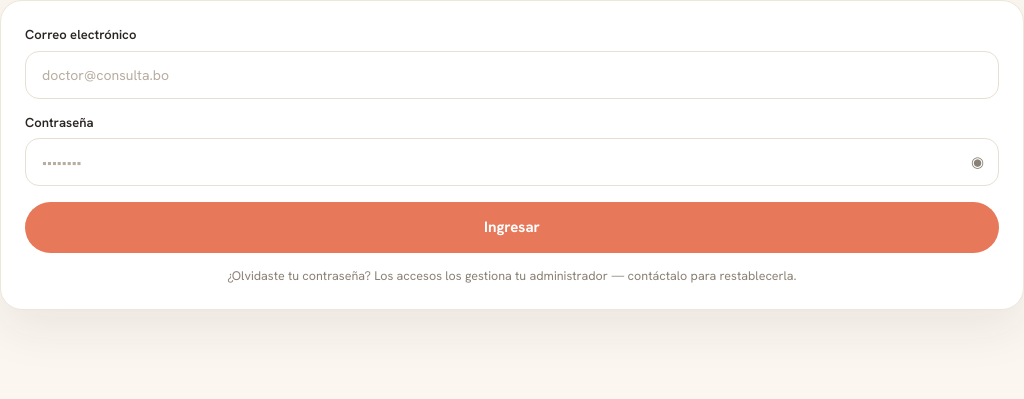
Test: LoginForm › clears a previous error on a successful retry
The width and height of the screenshot is (1024, 399).
Type "asistente@consulta.bo" into the field labelled "Correo electrónico". click: (512, 74)
box: [25, 50, 999, 98]
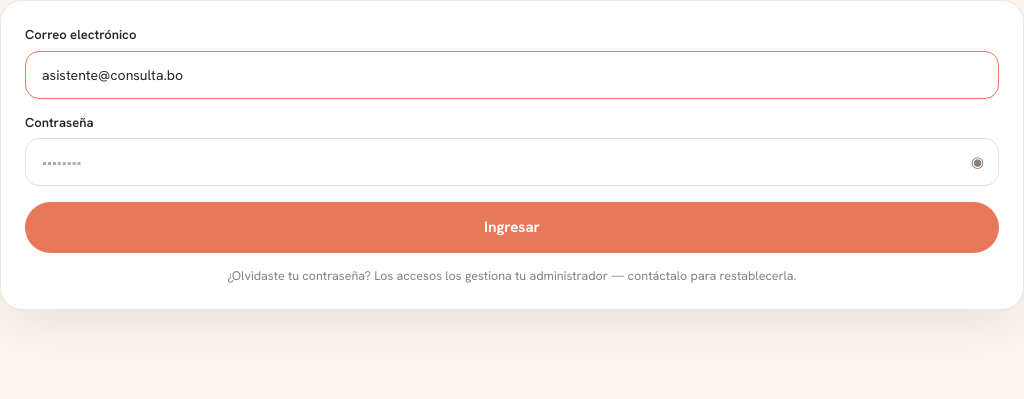
Type "wrong" into the password field labelled "Contraseña". click: (512, 162)
box: [25, 138, 999, 186]
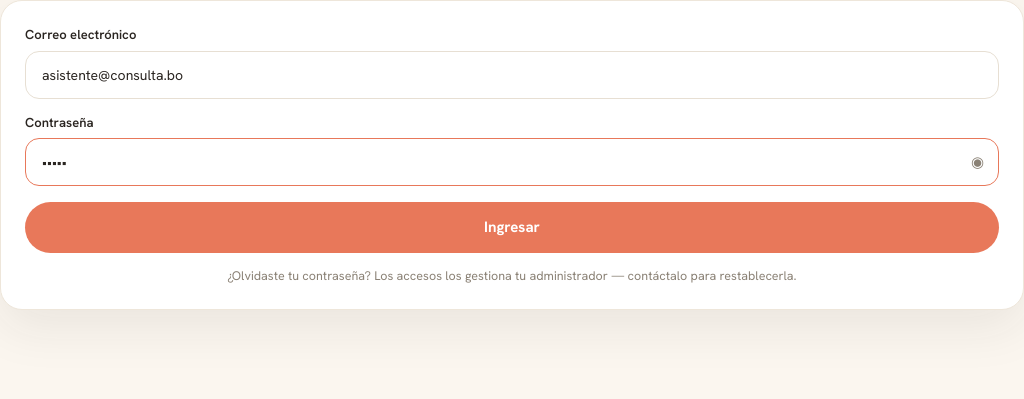
Click the button "Ingresar". click: (512, 227)
box: [25, 202, 999, 252]
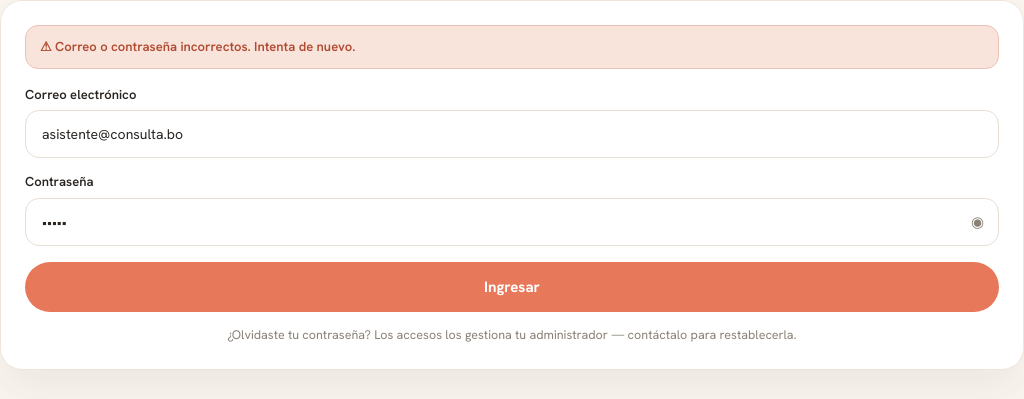
Now the text "⚠ Correo o contraseña incorrectos. Intenta de nuevo." is shown, box [25, 25, 999, 68]
Type "correct" into the password field labelled "Contraseña". click: (512, 222)
box: [25, 198, 999, 246]
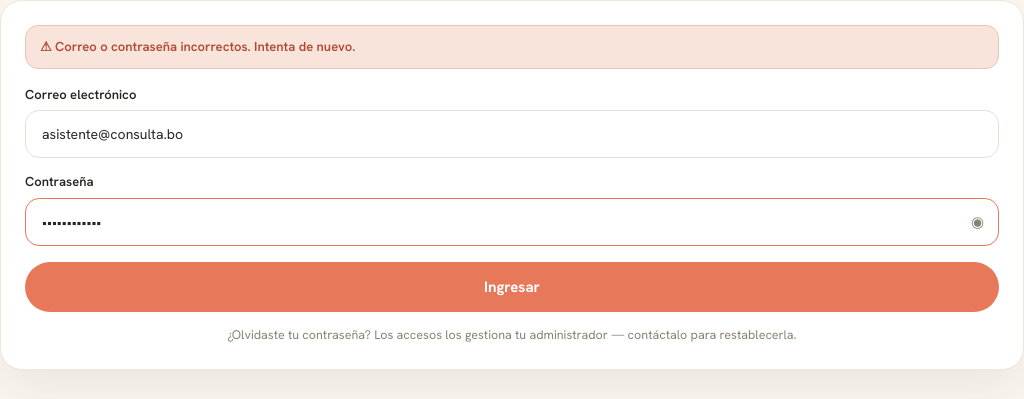
Click the button "Ingresar". click: (512, 287)
box: [25, 262, 999, 312]
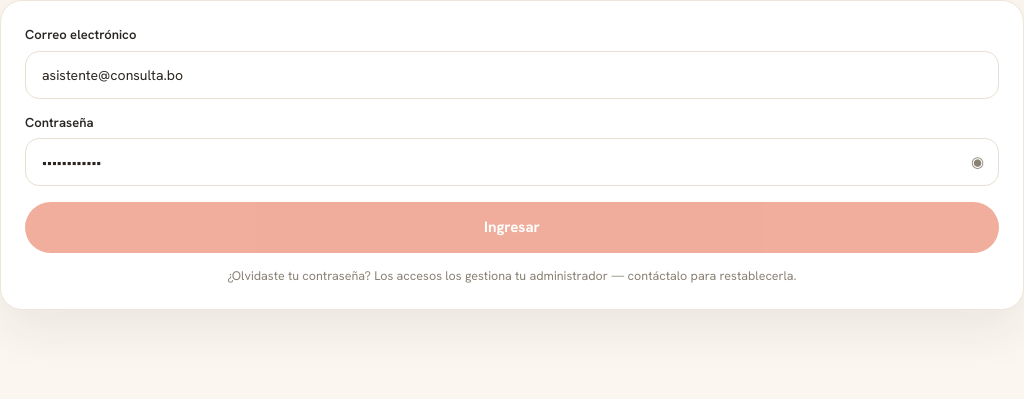
Now the text "Correo o contraseña incorrectos" is gone
